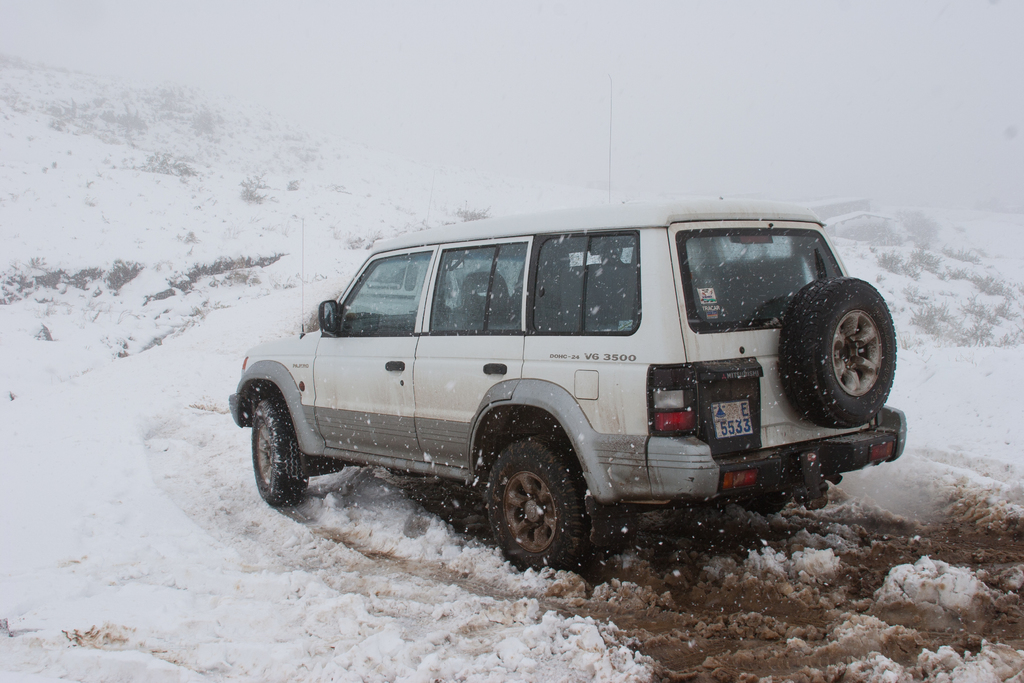Car: (199, 208, 906, 558)
